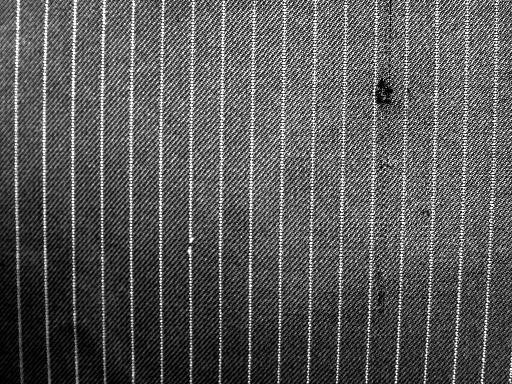fabric_hole: (366, 72, 413, 118)
